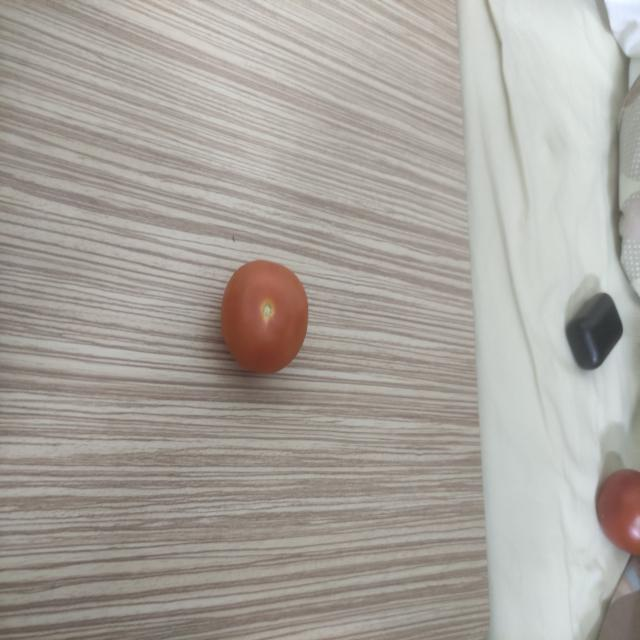sari: (216, 252, 313, 384)
